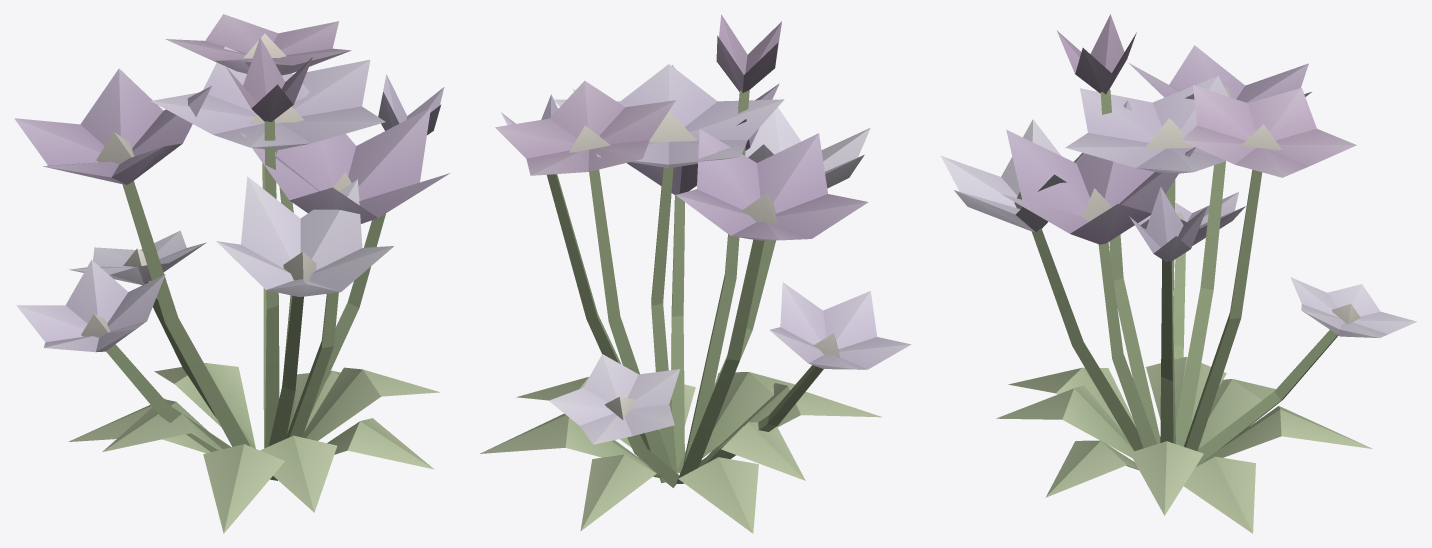
The model's file is flower-cluster-c.glb.
3 renders of one model, left to right at view 1: azimuth 30°, elevation 25°; view 2: azimuth 150°, elevation 25°; view 3: azimuth 270°, elevation 25°, orthographic. The views are drawn at different scales.
Visible parts, largest first — view 1: flower-cluster-c; view 2: flower-cluster-c; view 3: flower-cluster-c.
Boxes of the visible parts, bbox=[...] form: flower-cluster-c: bbox=[14, 14, 450, 533]; flower-cluster-c: bbox=[480, 14, 911, 533]; flower-cluster-c: bbox=[941, 14, 1416, 533].
Size of the model in its own units: 0.3182 by 0.3331 by 0.3335.
